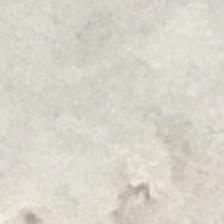Non_Crack: (14, 0, 206, 180)
